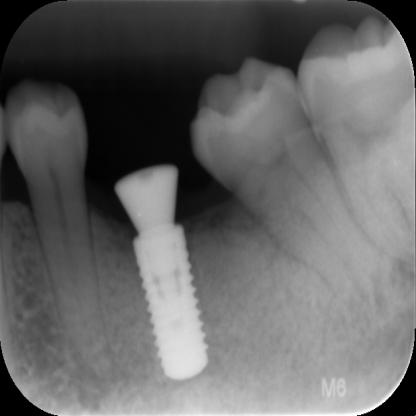ITI: (118, 231, 230, 379)
